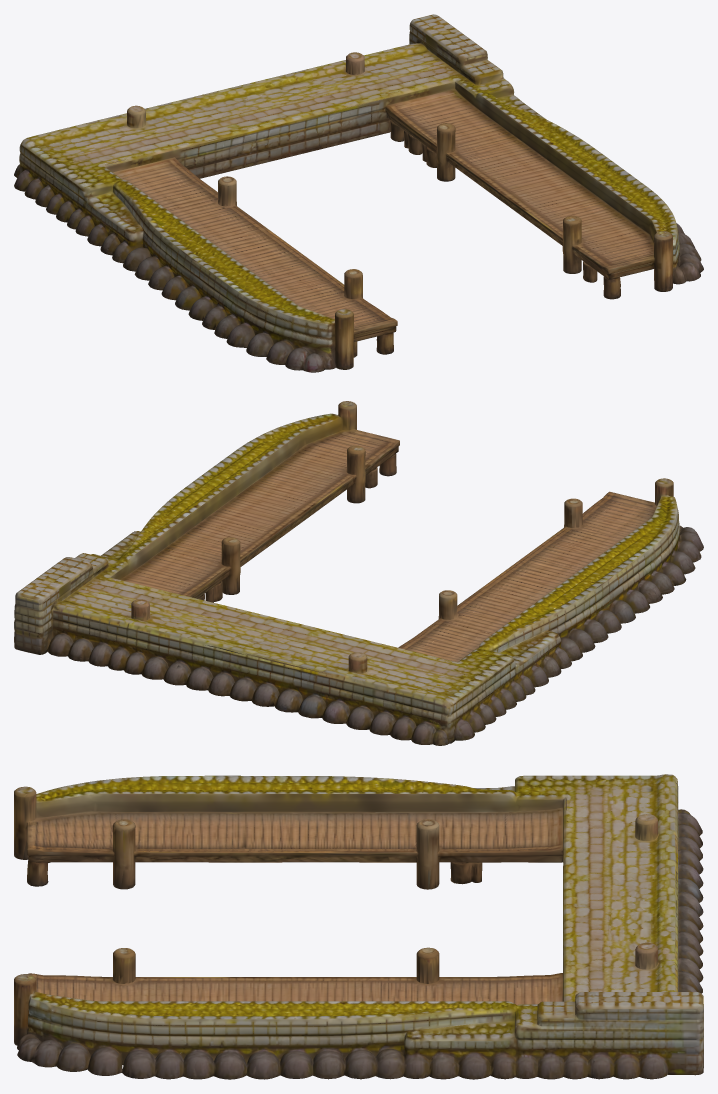
Rendered from dock_harbour_4k_texture.glb.
3 views of the same model, one above another, from view 1: azimuth 30°, elevation 25°; view 2: azimuth 150°, elevation 25°; view 3: azimuth 270°, elevation 25° (orthographic). The views are drawn at different scales.
Parts seen in each view (by area): view 1: material; view 2: material; view 3: material.
Boxes of the visible parts, <box> form: material: <box>14,14,703,372</box>; material: <box>14,401,703,745</box>; material: <box>14,774,703,1079</box>.
Size of the model in its own units: 0.8377 by 0.0993 by 0.9104.
1 material, 1 textured.
